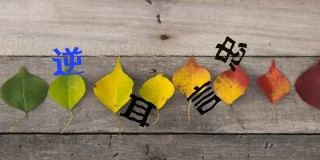忠: (214, 34, 248, 73)
耳: (120, 93, 157, 129)
言: (188, 81, 222, 116)
逆: (50, 45, 87, 76)
